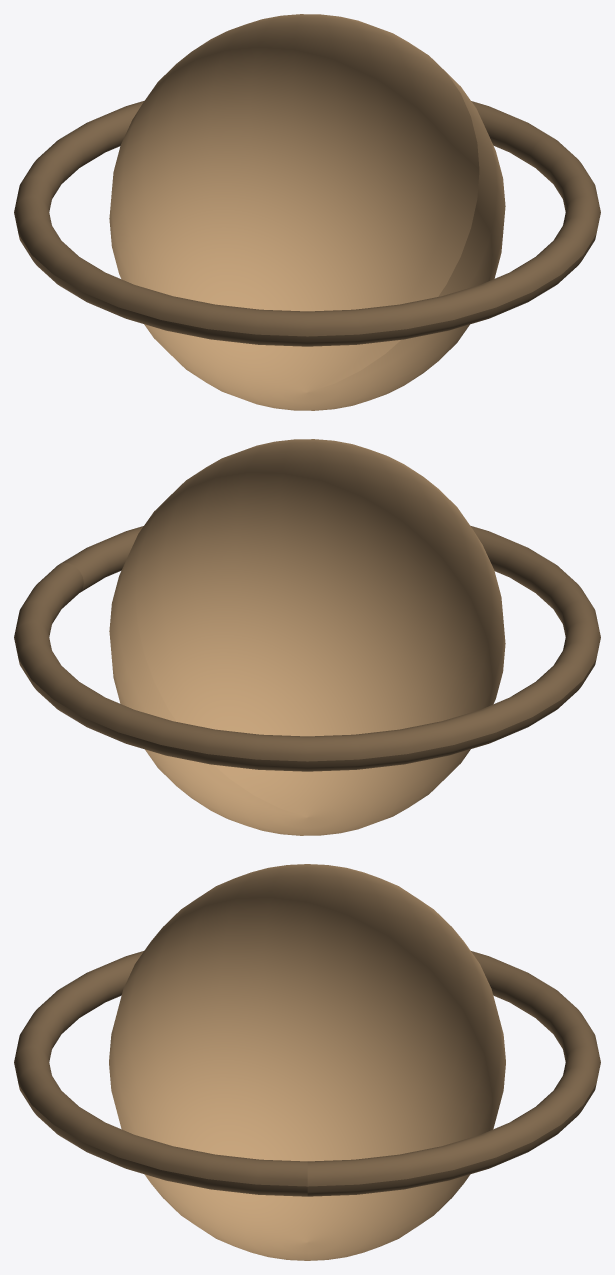
File: asset_bd63a9bf77.glb
3 views of the same model, one above another, from view 1: azimuth 30°, elevation 25°; view 2: azimuth 150°, elevation 25°; view 3: azimuth 270°, elevation 25° (orthographic).
Parts seen in each view (by area): view 1: body, ring; view 2: body, ring; view 3: body, ring.
Boxes of the visible parts, x1=… form: body: x1=109, y1=14, x2=505, y2=410; ring: x1=14, y1=100, x2=600, y2=346; body: x1=109, y1=439, x2=505, y2=835; ring: x1=14, y1=525, x2=600, y2=771; body: x1=109, y1=864, x2=505, y2=1260; ring: x1=14, y1=951, x2=600, y2=1196.
Bounding box in the file's own units: 2.66 × 1.8 × 2.66.
